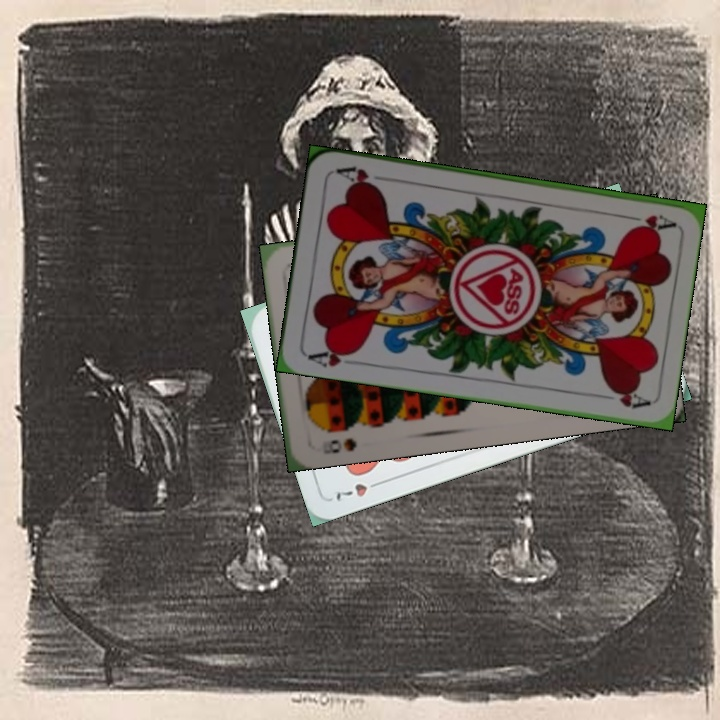H7: (332, 476, 387, 504)
HA: (303, 343, 362, 370), (618, 210, 677, 232)
S8: (327, 434, 360, 456)
